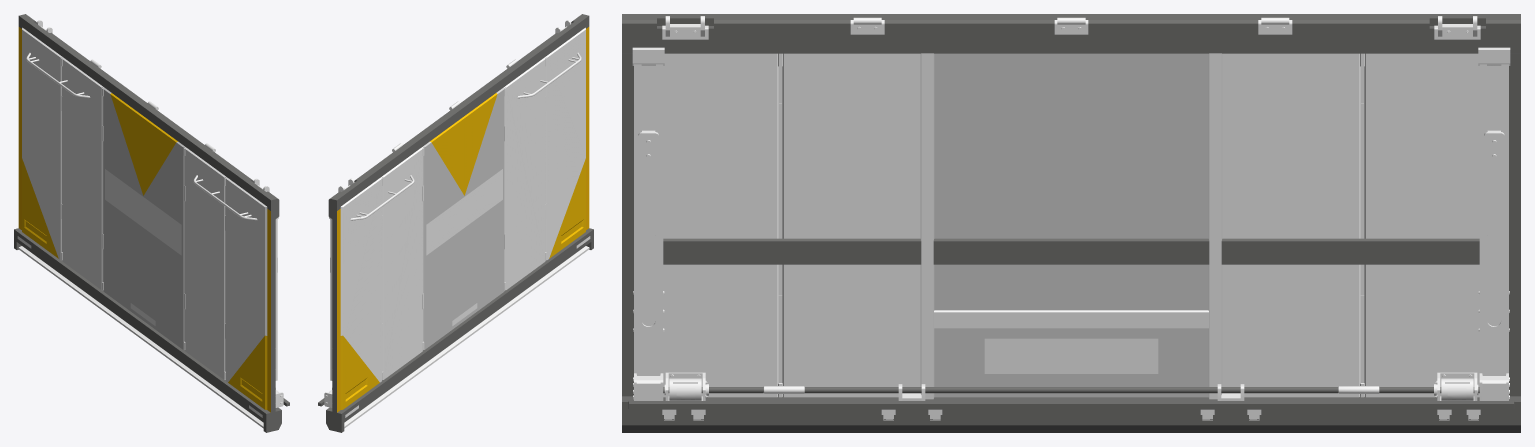
3 renders of one model, left to right at view 1: azimuth 30°, elevation 25°; view 2: azimuth 150°, elevation 25°; view 3: azimuth 270°, elevation 25°, orthographic. The views are drawn at different scales.
Parts seen in each view (by area): view 1: SM_H_Customiz_FoldDoor_01B; view 2: SM_H_Customiz_FoldDoor_01B; view 3: SM_H_Customiz_FoldDoor_01B.
Part boxes in pixels (<box>): SM_H_Customiz_FoldDoor_01B: <box>14,14,289,432</box>; SM_H_Customiz_FoldDoor_01B: <box>318,14,593,432</box>; SM_H_Customiz_FoldDoor_01B: <box>622,14,1520,432</box>.
Size of the model in its own units: 393 by 28.92 by 201.
